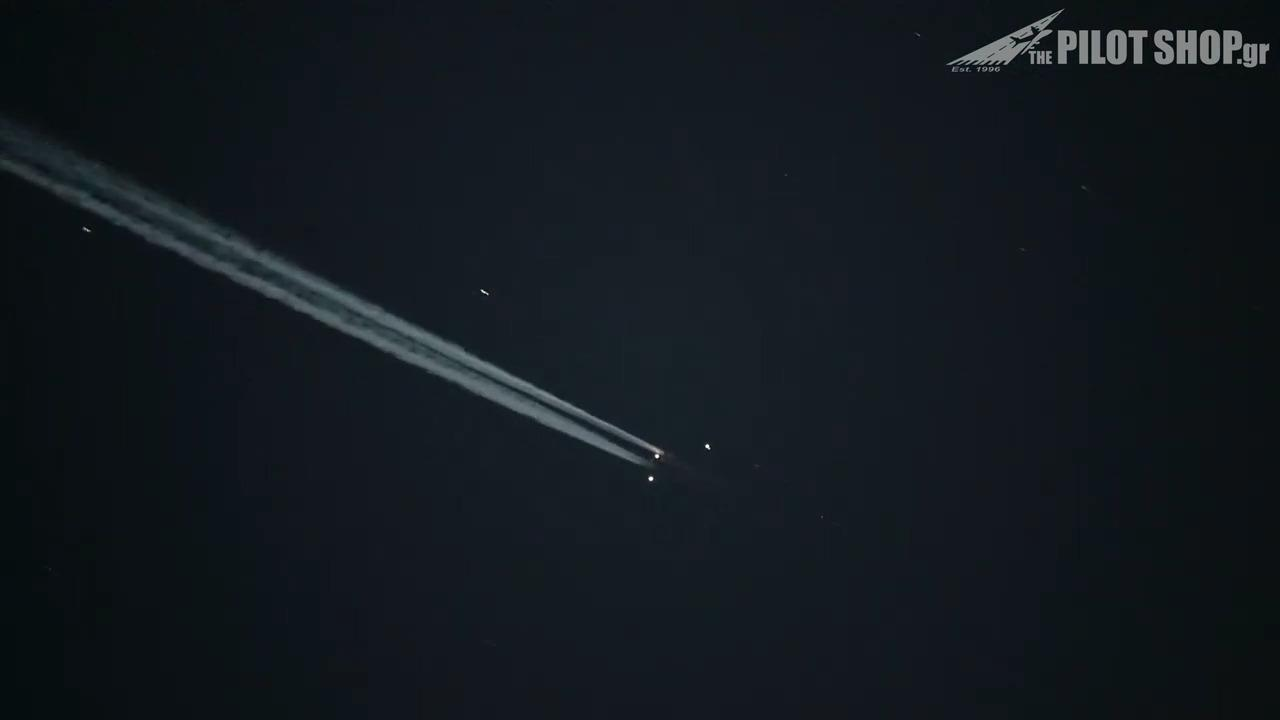Plane: (194, 260, 793, 518)
